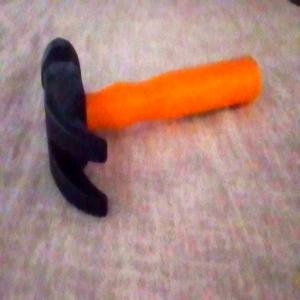martelo: (38, 33, 266, 224)
